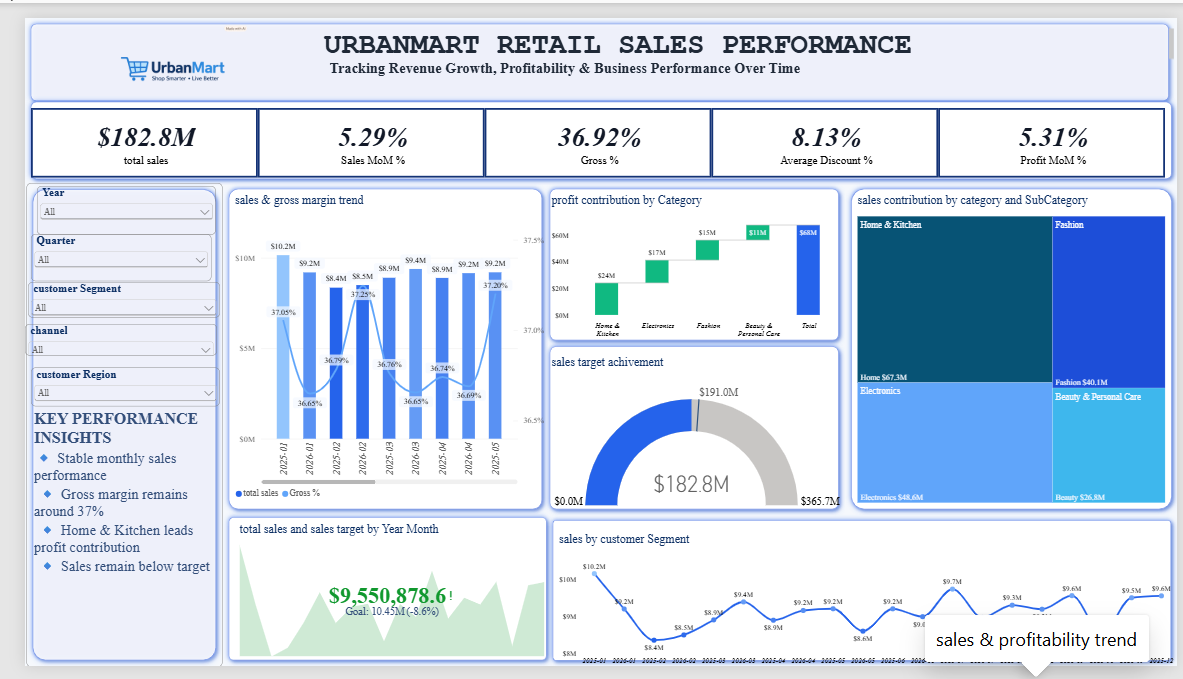

What the dashboard file says about the page in this screenshot:
{"tool":"powerbi","page":{"name":"executive summry","canvas":[1920,1080],"ordinal":0},"visuals":[{"type":"shape","box":[1124.6,140.8,403.2,186.1],"z":0,"group":"g9"},{"type":"shape","box":[746.9,141.5,383,190.9],"z":0,"group":"g2"},{"type":"group","id":"g1","title":"Group 2","box":[11.9,145.3,360.3,190.9],"z":0,"group":"g12"},{"type":"shape","box":[11.9,145.3,359.6,185],"z":0,"group":"g1"},{"type":"cardVisual","title":"total sales","fields":{"Data":["kpis.AOV"]},"box":[755.5,146,375.5,144.5],"z":0,"group":"g3"},{"type":"cardVisual","title":"total sales","fields":{"Data":["kpis.total profit"]},"box":[377.3,147.9,361.8,137.1],"z":0,"group":"g4"},{"type":"shape","box":[365.9,148.6,381.7,186.1],"z":0,"group":"g8"},{"type":"shape","box":[1522.8,158.1,389.5,174],"z":0,"group":"g10"},{"type":"cardVisual","title":"total sales","fields":{"Data":["kpis.total sales"]},"box":[11.9,162.5,359.6,129.9],"z":0,"group":"g5"},{"type":"cardVisual","title":"total sales","fields":{"Data":["kpis.Total Orders"]},"box":[1519.7,167.8,389.5,122.1],"z":0,"group":"g6"},{"type":"cardVisual","title":"total sales","fields":{"Data":["kpis.Gross %"]},"box":[1145.5,174.3,333.5,110.8],"z":0,"group":"g7"},{"type":"shape","box":[1119,319.7,417.5,360.3],"z":0},{"type":"group","id":"g2","title":"Group 2","box":[746.9,141.5,384.1,190.9],"z":1000,"group":"g12"},{"type":"group","id":"g3","title":"Group 1","box":[755.5,143.4,375.5,181.7],"z":1000,"group":"g2"},{"type":"group","id":"g4","title":"Group 1","box":[371.6,144.1,367.4,186.1],"z":1000,"group":"g8"},{"type":"group","id":"g5","title":"Group 1","box":[11.9,159.2,359.6,176.4],"z":1000,"group":"g1"},{"type":"group","id":"g6","title":"Group 1","box":[1519.7,165,389.5,162.3],"z":1000,"group":"g10"},{"type":"group","id":"g7","title":"Group 1","box":[1134.6,169.2,368.4,137],"z":1000,"group":"g9"},{"type":"lineChart","fields":{"Category":["DimDate.Month Name"],"Y":["kpis.Sales MoM %"]},"box":[763.4,191.4,350.5,133.7],"z":1000,"group":"g3"},{"type":"lineChart","fields":{"Category":["DimDate.Month Name"],"Y":["kpis.profit MOM change"]},"box":[371.6,198.1,356.9,125.5],"z":1000,"group":"g4"},{"type":"lineChart","fields":{"Category":["DimDate.Month Name"],"Y":["kpis.Gross %"]},"box":[1134.6,216.5,368.4,88.6],"z":1000,"group":"g7"},{"type":"lineChart","fields":{"Category":["DimDate.Month Name"],"Y":["kpis.Previous Year Sales"]},"box":[1520,217.6,377.8,109.7],"z":1000,"group":"g6"},{"type":"lineChart","fields":{"Category":["DimDate.Month Name"],"Y":["kpis.total sales"]},"box":[11.9,245.8,359.6,89.9],"z":1000,"group":"g5"},{"type":"shape","box":[1530.6,319.7,388.9,360.3],"z":1000},{"type":"cardVisual","title":"profit mom vs last month","fields":{"Data":["kpis.Sales MoM %"]},"box":[964.8,143.4,145.2,129.8],"z":2000,"group":"g3"},{"type":"group","id":"g8","title":"Group 2","box":[365.9,144.1,381.7,190.6],"z":2000,"group":"g12"},{"type":"cardVisual","title":"profit mom vs last month","fields":{"Data":["kpis.profit MOM change"]},"box":[577.7,144.1,142.3,125.5],"z":2000,"group":"g4"},{"type":"cardVisual","title":"profit mom vs last month","fields":{"Data":["kpis.Profit MoM %"]},"box":[213.3,159.2,139,97.8],"z":2000,"group":"g5"},{"type":"cardVisual","title":"profit mom vs last month","fields":{"Data":["kpis.profit_trend"]},"box":[1697.5,165,192.2,109.7],"z":2000,"group":"g6"},{"type":"cardVisual","title":"profit mom vs last month","fields":{"Data":["kpis.Profit MoM %"]},"box":[1322.4,169.2,136.7,93.7],"z":2000,"group":"g7"},{"type":"shape","box":[1527,680,393.7,400.8],"z":2000},{"type":"group","id":"g9","title":"Group 2","box":[1124.6,140.8,403.2,186.1],"z":3000,"group":"g12"},{"type":"shape","box":[1119,680,412.8,393.7],"z":3000},{"type":"group","id":"g10","title":"Group 2","box":[1519.7,158.1,391.3,174.2],"z":4000,"group":"g12"},{"type":"shape","box":[0,319.7,353.1,761.1],"z":4000},{"type":"group","id":"g11","title":"Group 3","box":[1417.2,343.4,503.5,143.4],"z":5000},{"type":"barChart","title":"    sales by category","fields":{"Category":["Dim_Product.Category"],"Y":["kpis.total net sales"]},"box":[1140.5,341.2,391.3,319.7],"z":6000},{"type":"columnChart","title":"  sales by Region","fields":{"Category":["Dim_Customer.Region"],"Y":["kpis.total net sales"]},"box":[1543.7,341.2,365,319.7],"z":7000},{"type":"funnel","title":"top 5 products by sales","fields":{"Category":["Dim_Product.ProductName"],"Y":["kpis.total net sales"]},"box":[1140.5,694.3,369.8,372.2],"z":8000},{"type":"columnChart","title":" sales by Channel","fields":{"Category":["Fact_Sales.Channel"],"Y":["kpis.total net sales"]},"box":[1543.7,701.5,362.7,372.2],"z":9000},{"type":"slicer","fields":{"Values":["Dim_Product.Category"]},"box":[14.3,618,336.4,124.1],"z":10000},{"type":"slicer","fields":{"Values":["Dim_Store.Region"]},"box":[9.5,713.4,336.4,114.5],"z":11000},{"type":"shape","box":[0,0,1920.7,147.9],"z":12000},{"type":"slicer","fields":{"Values":["Dim_Product.ProductName"]},"box":[16.7,827.9,322.1,119.3],"z":13000},{"type":"slicer","fields":{"Values":["Fact_Sales.Channel"]},"box":[16.7,959.1,322.1,114.5],"z":14000},{"type":"shape","box":[353.1,319.7,773,360.3],"z":15000},{"type":"waterfallChart","title":" Monthly Sales Performance","fields":{"Category":["DimDate.Month Name"],"Y":["kpis.total sales"]},"box":[369.8,338.8,739.6,322.1],"z":16000},{"type":"pageNavigator","box":[14.3,322.1,322.1,305.4],"z":17000},{"type":"image","box":[1340.9,0,224.3,136],"z":18000},{"type":"textbox","box":[1517.4,40.6,300.6,78.7],"z":19000},{"type":"image","box":[9.5,367.4,126.5,52.5],"z":20000},{"type":"textbox","box":[1417.2,343.4,503.5,143.4],"z":20007,"group":"g11"},{"type":"image","box":[0,0,434.2,190.9],"z":21000},{"type":"group","id":"g12","title":"Group 4","box":[11.9,140.8,1899.1,195.4],"z":22000},{"type":"textbox","box":[346,19.1,1045,116.9],"z":23000},{"type":"shape","box":[353.1,680,773,400.8],"z":23001},{"type":"textbox","box":[365,701.5,749.2,365],"z":23002}]}

Visuals, with their boxes in screenshot pixels (x1, y1, x2, y2), scaled from the page's 1920x1080 canvas onto the 1183x679 screenshot:
shape: left=693, top=89, right=941, bottom=206
shape: left=460, top=89, right=696, bottom=209
"Group 2" group: left=7, top=91, right=229, bottom=211
shape: left=7, top=91, right=229, bottom=208
"total sales" cardVisual: left=465, top=92, right=697, bottom=183
"total sales" cardVisual: left=232, top=93, right=455, bottom=179
shape: left=225, top=93, right=461, bottom=210
shape: left=938, top=99, right=1178, bottom=209
"total sales" cardVisual: left=7, top=102, right=229, bottom=184
"total sales" cardVisual: left=936, top=105, right=1176, bottom=182
"total sales" cardVisual: left=706, top=110, right=911, bottom=179
shape: left=689, top=201, right=947, bottom=428
"Group 2" group: left=460, top=89, right=697, bottom=209
"Group 1" group: left=465, top=90, right=697, bottom=204
"Group 1" group: left=229, top=91, right=455, bottom=208
"Group 1" group: left=7, top=100, right=229, bottom=211
"Group 1" group: left=936, top=104, right=1176, bottom=206
"Group 1" group: left=699, top=106, right=926, bottom=193
lineChart - DimDate.Month Name x kpis.Sales MoM %: left=470, top=120, right=686, bottom=204
lineChart - DimDate.Month Name x kpis.profit MOM change: left=229, top=125, right=449, bottom=203
lineChart - DimDate.Month Name x kpis.Gross %: left=699, top=136, right=926, bottom=192
lineChart - DimDate.Month Name x kpis.Previous Year Sales: left=937, top=137, right=1169, bottom=206
lineChart - DimDate.Month Name x kpis.total sales: left=7, top=155, right=229, bottom=211
shape: left=943, top=201, right=1182, bottom=428
"profit mom vs last month" cardVisual: left=594, top=90, right=684, bottom=172
"Group 2" group: left=225, top=91, right=461, bottom=210
"profit mom vs last month" cardVisual: left=356, top=91, right=444, bottom=169
"profit mom vs last month" cardVisual: left=131, top=100, right=217, bottom=162
"profit mom vs last month" cardVisual: left=1046, top=104, right=1164, bottom=173
"profit mom vs last month" cardVisual: left=815, top=106, right=899, bottom=165
shape: left=941, top=428, right=1182, bottom=678
"Group 2" group: left=693, top=89, right=941, bottom=206
shape: left=689, top=428, right=944, bottom=675
"Group 2" group: left=936, top=99, right=1177, bottom=209
shape: left=0, top=201, right=218, bottom=678
"Group 3" group: left=873, top=216, right=1182, bottom=306
"    sales by category" barChart: left=703, top=215, right=944, bottom=416
"  sales by Region" columnChart: left=951, top=215, right=1176, bottom=416
"top 5 products by sales" funnel: left=703, top=437, right=931, bottom=671
" sales by Channel" columnChart: left=951, top=441, right=1175, bottom=675
slicer - Dim_Product.Category: left=9, top=389, right=216, bottom=467
slicer - Dim_Store.Region: left=6, top=449, right=213, bottom=521
shape: left=0, top=0, right=1182, bottom=93
slicer - Dim_Product.ProductName: left=10, top=521, right=209, bottom=596
slicer - Fact_Sales.Channel: left=10, top=603, right=209, bottom=675
shape: left=218, top=201, right=694, bottom=428
" Monthly Sales Performance" waterfallChart: left=228, top=213, right=684, bottom=416
pageNavigator: left=9, top=203, right=207, bottom=395
image: left=826, top=0, right=964, bottom=86
textbox: left=935, top=26, right=1120, bottom=75
image: left=6, top=231, right=84, bottom=264
textbox: left=873, top=216, right=1182, bottom=306
image: left=0, top=0, right=268, bottom=120
"Group 4" group: left=7, top=89, right=1177, bottom=211
textbox: left=213, top=12, right=857, bottom=86
shape: left=218, top=428, right=694, bottom=678
textbox: left=225, top=441, right=687, bottom=671
